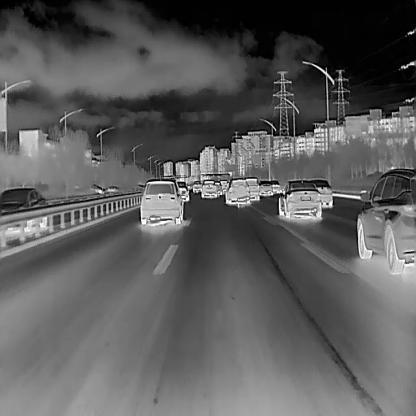car: (355, 168, 415, 275), (0, 184, 49, 235), (138, 176, 183, 225), (277, 179, 322, 218), (223, 176, 251, 204), (310, 177, 334, 207), (244, 175, 259, 200), (199, 178, 216, 198), (256, 179, 273, 196), (176, 179, 189, 201), (89, 182, 105, 195), (212, 180, 223, 196), (269, 178, 280, 193), (103, 185, 118, 193), (191, 178, 200, 191)
